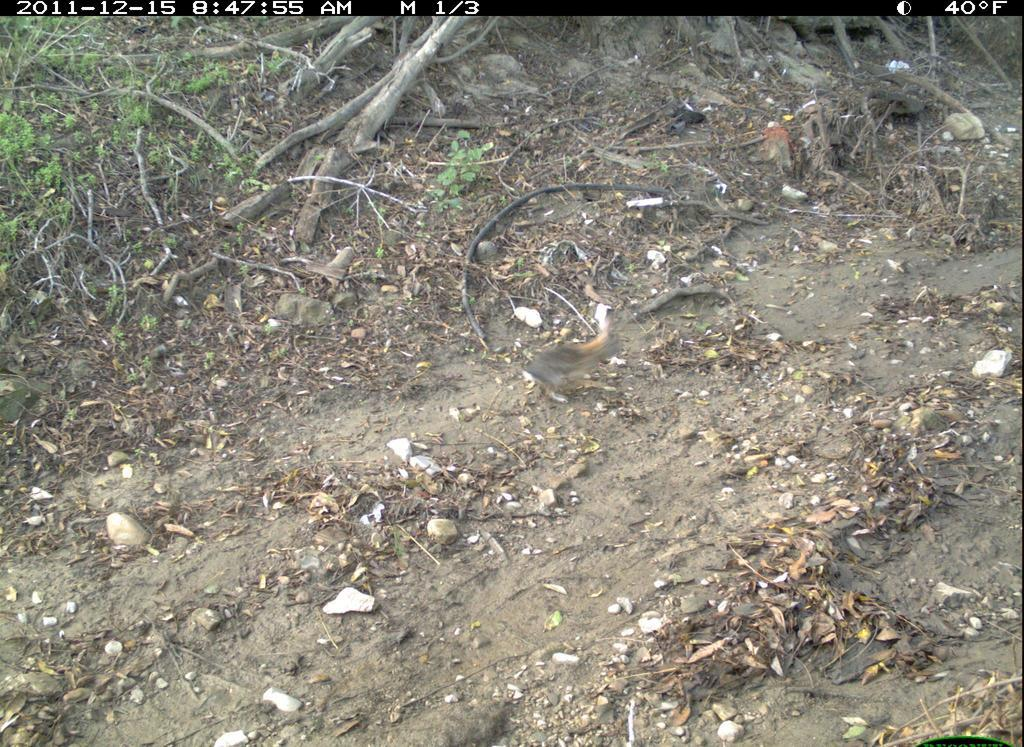rabbit: (515, 303, 635, 410)
